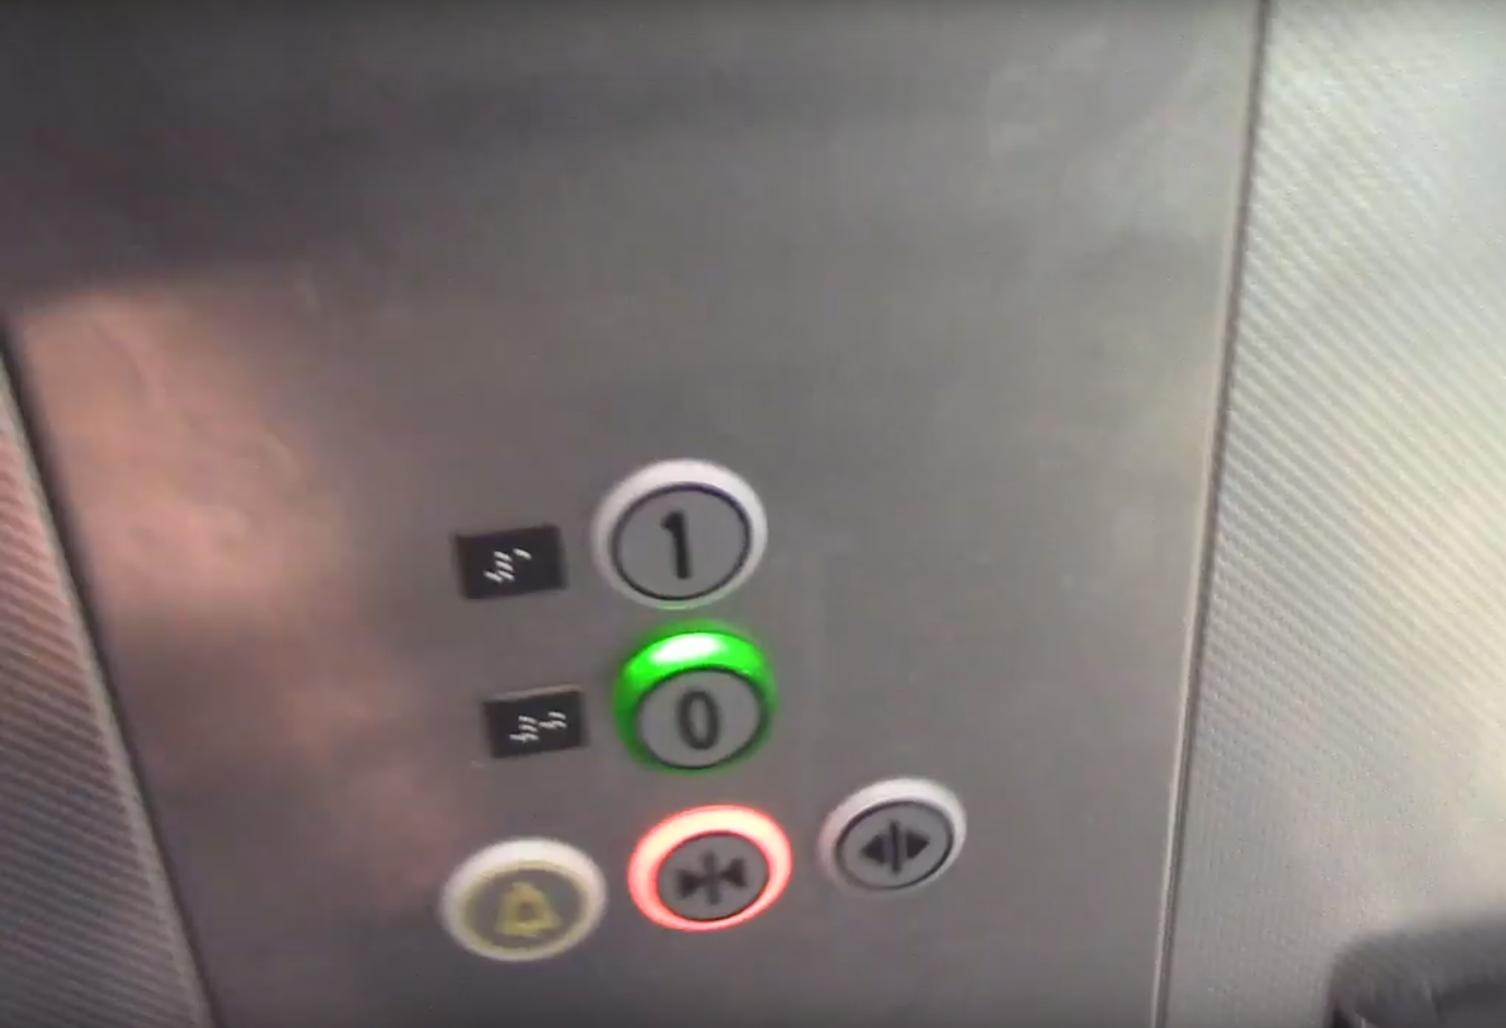0: (605, 627, 775, 778)
1: (587, 458, 764, 614)
alarm: (429, 836, 612, 968)
close: (624, 797, 792, 932)
open: (817, 773, 970, 906)
